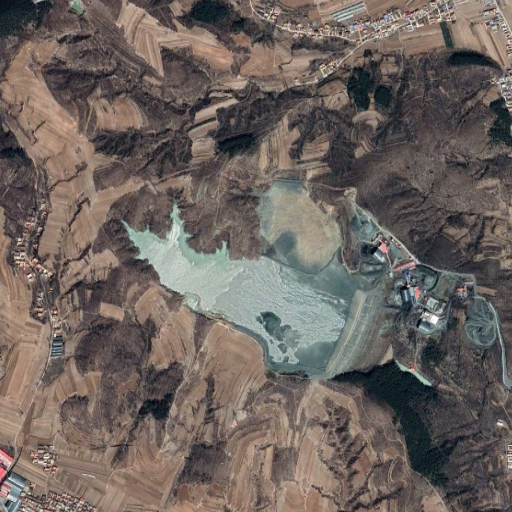tp: (122, 203, 397, 382)
